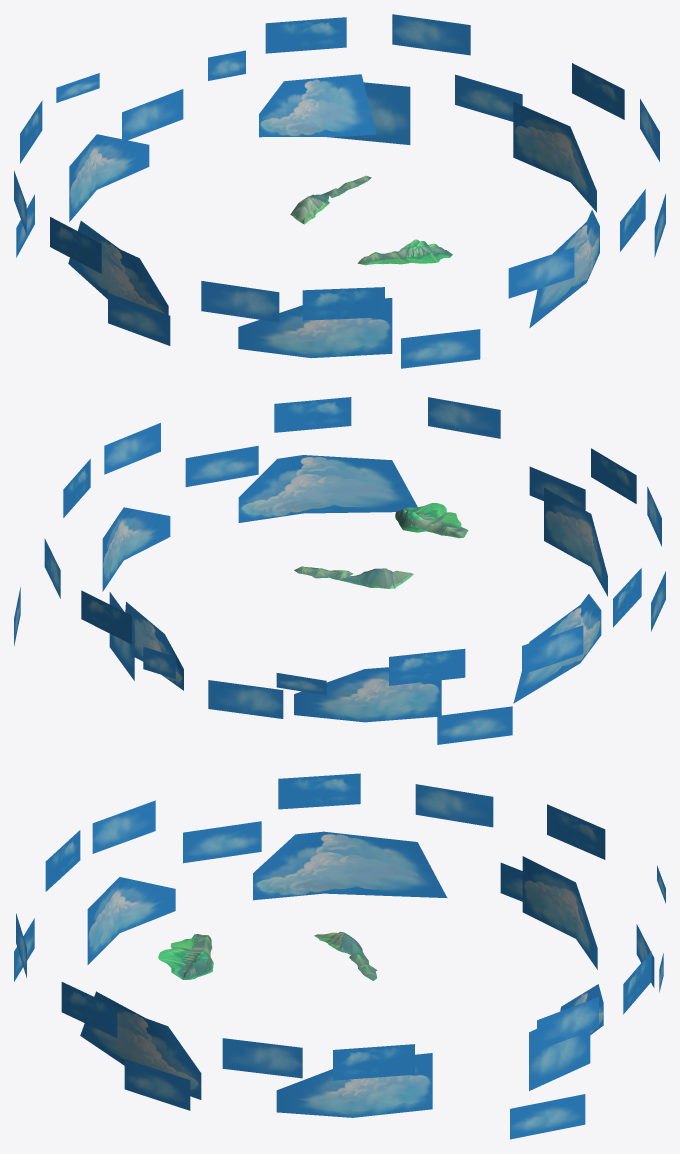
File: majorcity_yunshan.FBX
3 views of the same model, one above another, from view 1: azimuth 30°, elevation 25°; view 2: azimuth 150°, elevation 25°; view 3: azimuth 270°, elevation 25° (orthographic). The views are drawn at different scales.
Parts seen in each view (by area): view 1: yun01, yun02, shan01, shan02; view 2: yun01, yun02, shan01, shan02; view 3: yun01, yun02, shan01, shan02.
Part boxes in pixels (box(x1,y1,x2,y2)): yun01: box(16, 74, 665, 368); yun02: box(14, 14, 659, 322); shan01: box(357, 239, 452, 265); shan02: box(290, 175, 371, 224); yun01: box(14, 445, 665, 744); yun02: box(44, 397, 661, 695); shan01: box(395, 503, 468, 538); shan02: box(294, 566, 413, 588); yun01: box(14, 821, 654, 1139); yun02: box(16, 773, 665, 1080); shan01: box(158, 934, 213, 979); shan02: box(314, 931, 377, 980).
Size of the model in its own units: 7315 by 1302 by 7284.
